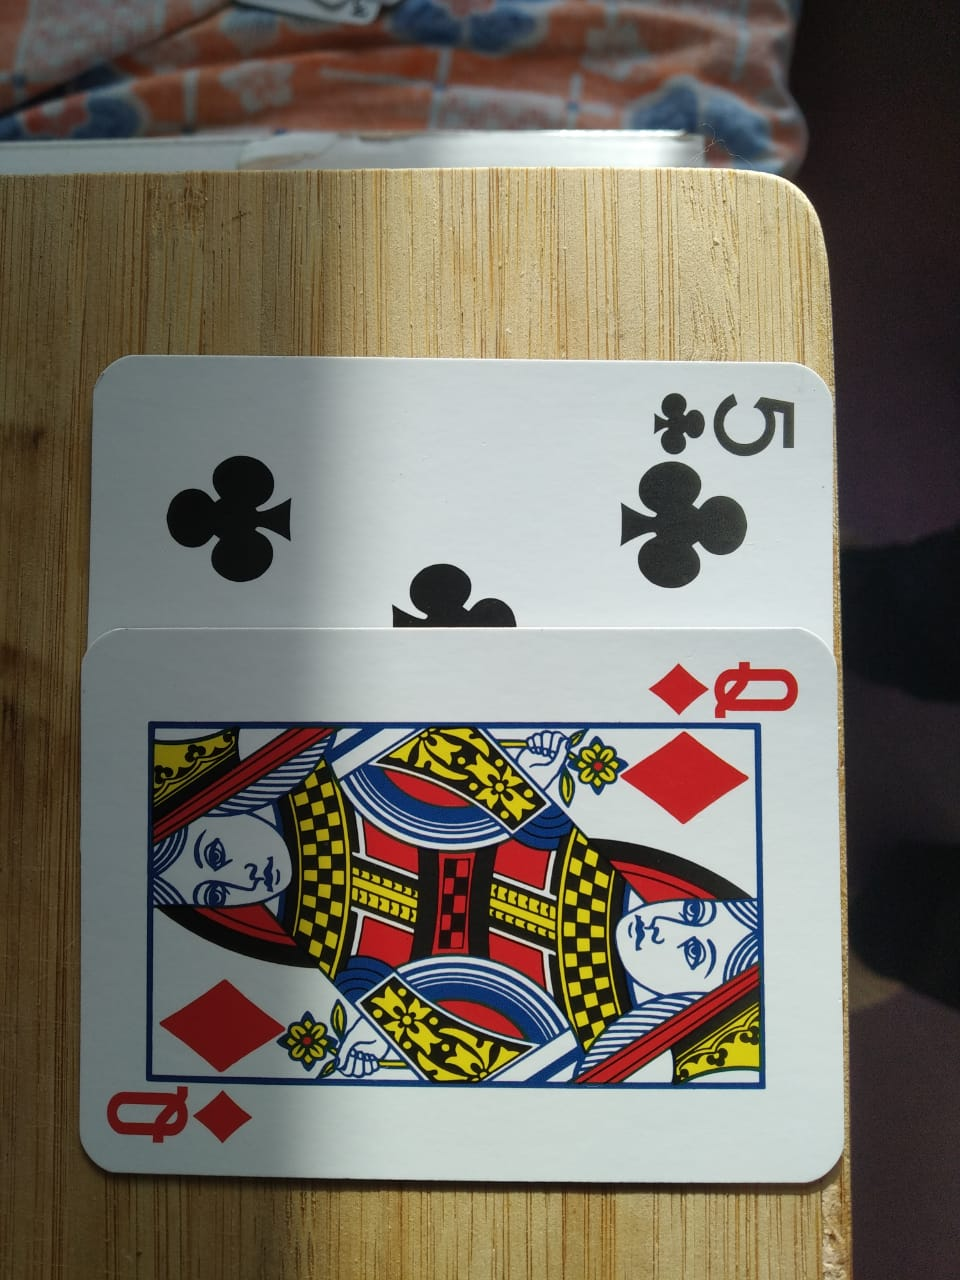queen: (63, 612, 863, 1196)
